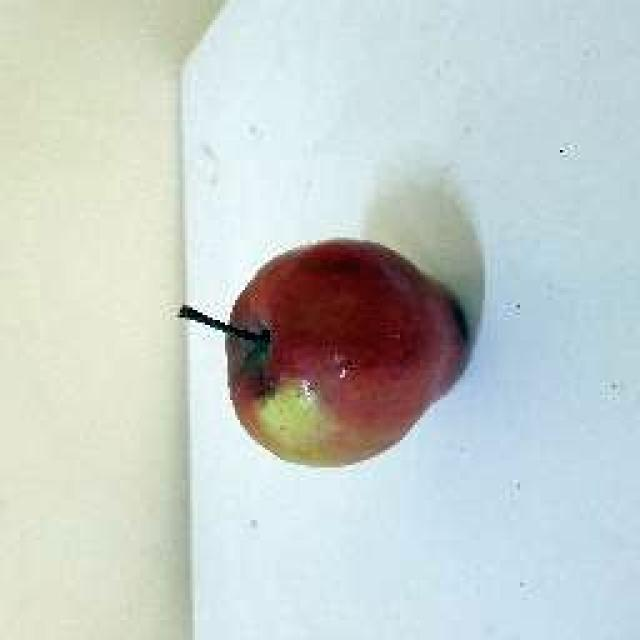Good_Apple: (225, 238, 472, 470)
